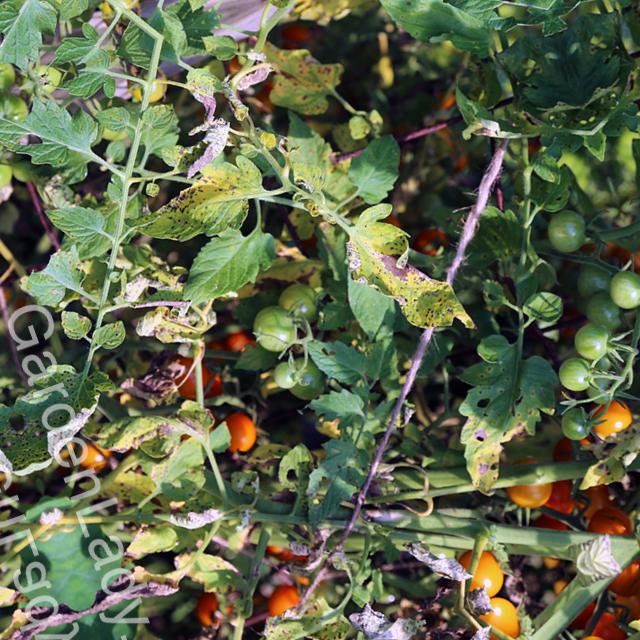Tomato Early blight leaf: (327, 183, 478, 366), (428, 322, 580, 490), (129, 151, 275, 260), (165, 214, 286, 314), (370, 0, 497, 78), (257, 29, 349, 126), (275, 105, 345, 202), (97, 40, 165, 96)
